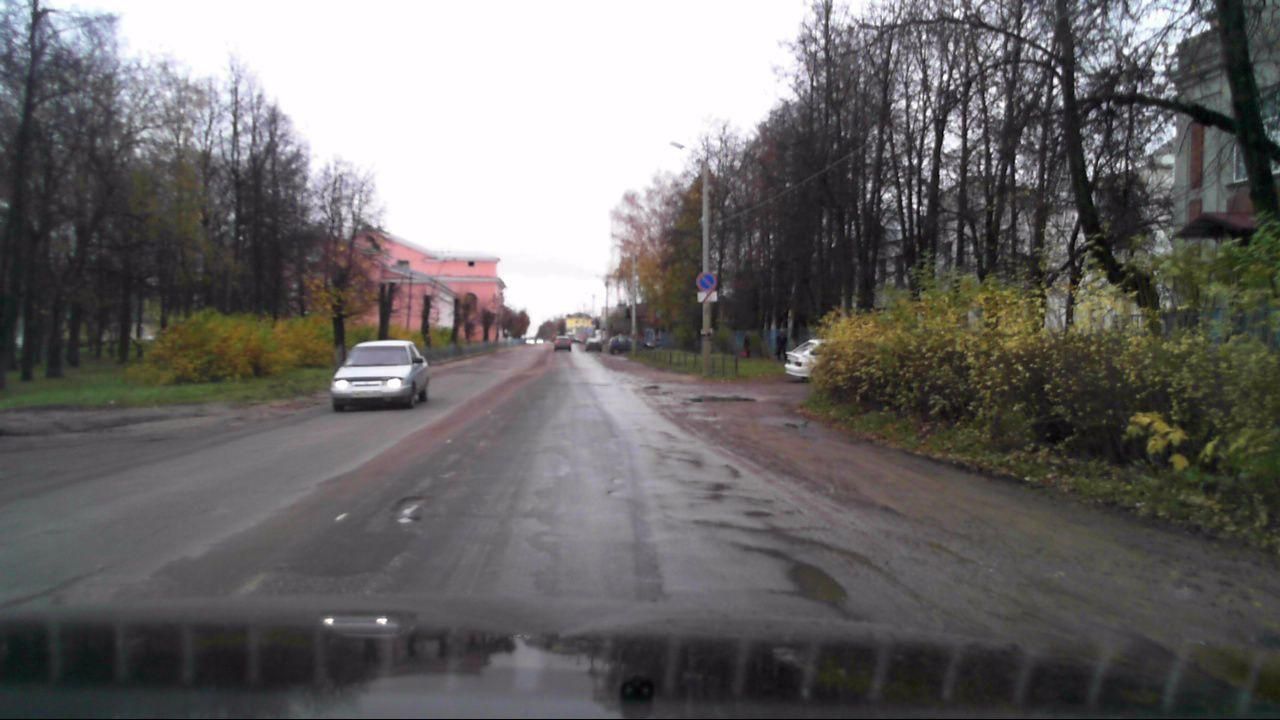road_sign: (696, 272, 717, 291)
